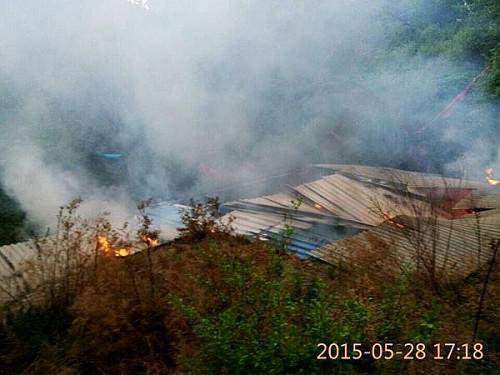fire: (95, 228, 133, 260), (140, 233, 163, 249), (313, 197, 319, 208)
